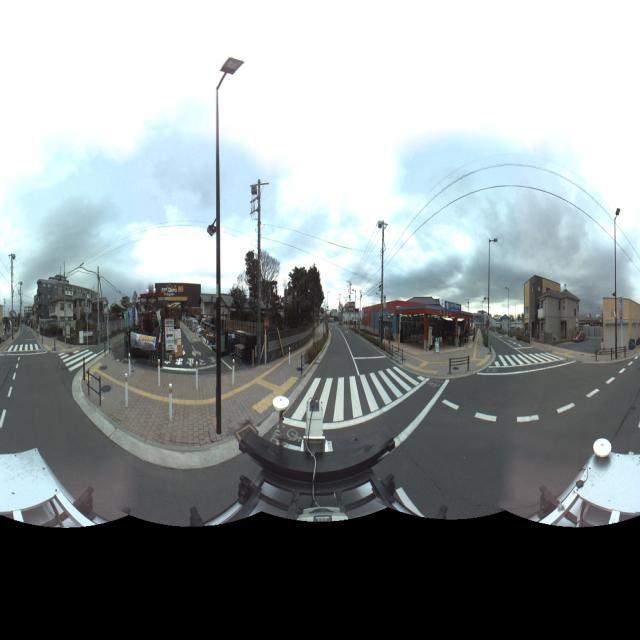b_1: (33, 268, 110, 344), (541, 280, 578, 352), (603, 290, 640, 362), (520, 270, 546, 332)
b_2: (236, 274, 307, 347)
